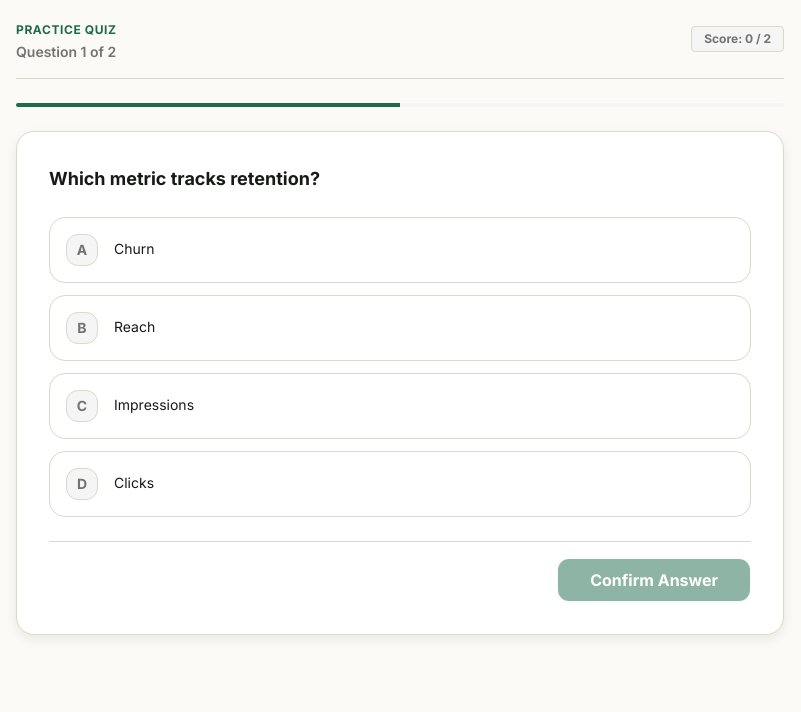
Scenario: QuizBlock keyboard scope › clears the announcement and keeps focus in the quiz when advancing
Step 1. Press 1 in the element named "Lesson Quiz"
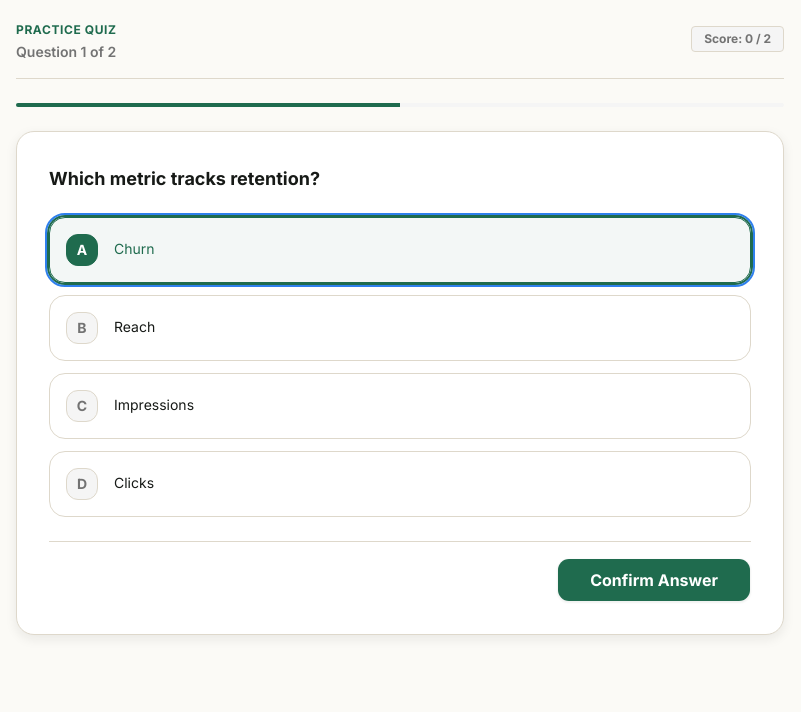
Step 2. Click the button "Confirm Answer" → click(654, 580), box [557,558,751,602]
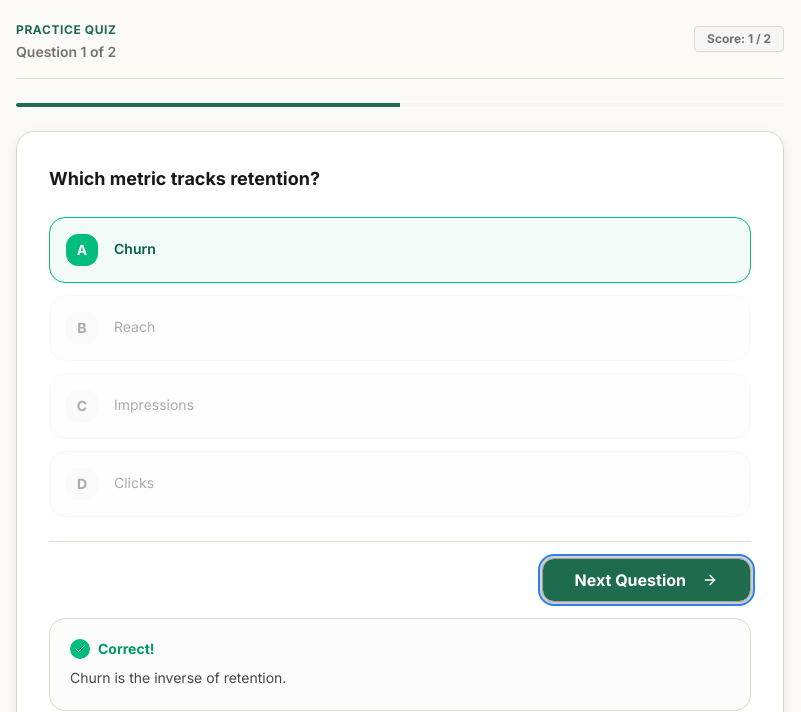
Step 3. Click the button "Next Question" → click(646, 580), box [542,558,751,602]
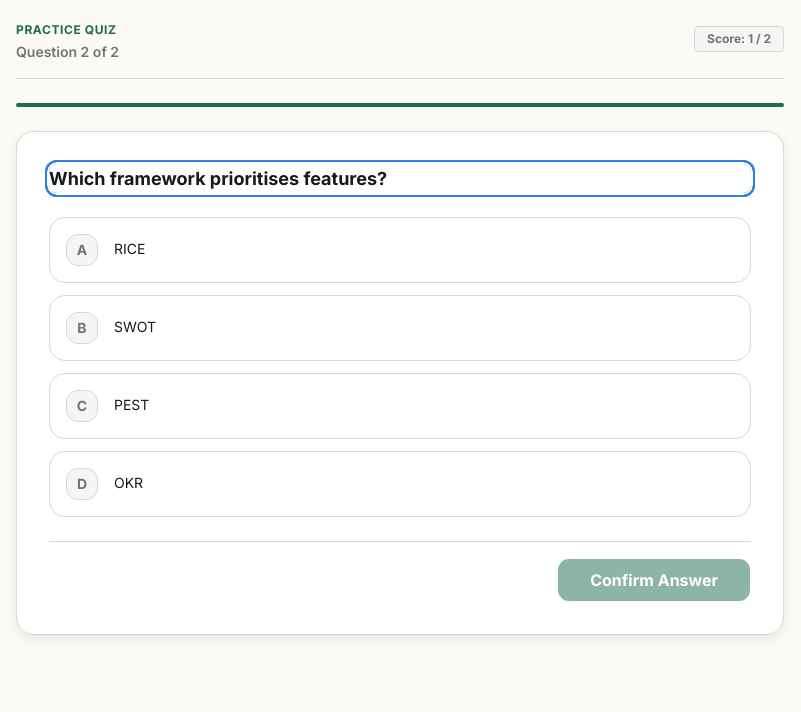
Check: the text "Question 2 of 2" is shown, box [16,42,119,62]
Check: the text "Which framework prioritises features?" is shown, box [49,164,751,193]
